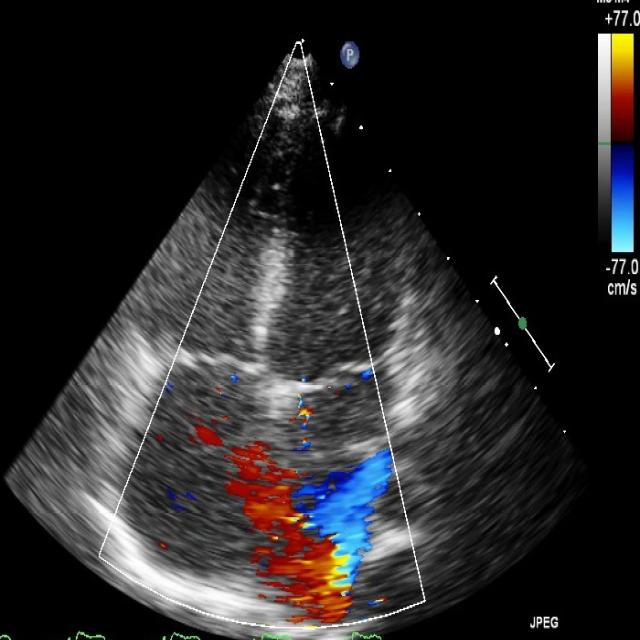ASDType2: (226, 478, 372, 567)
